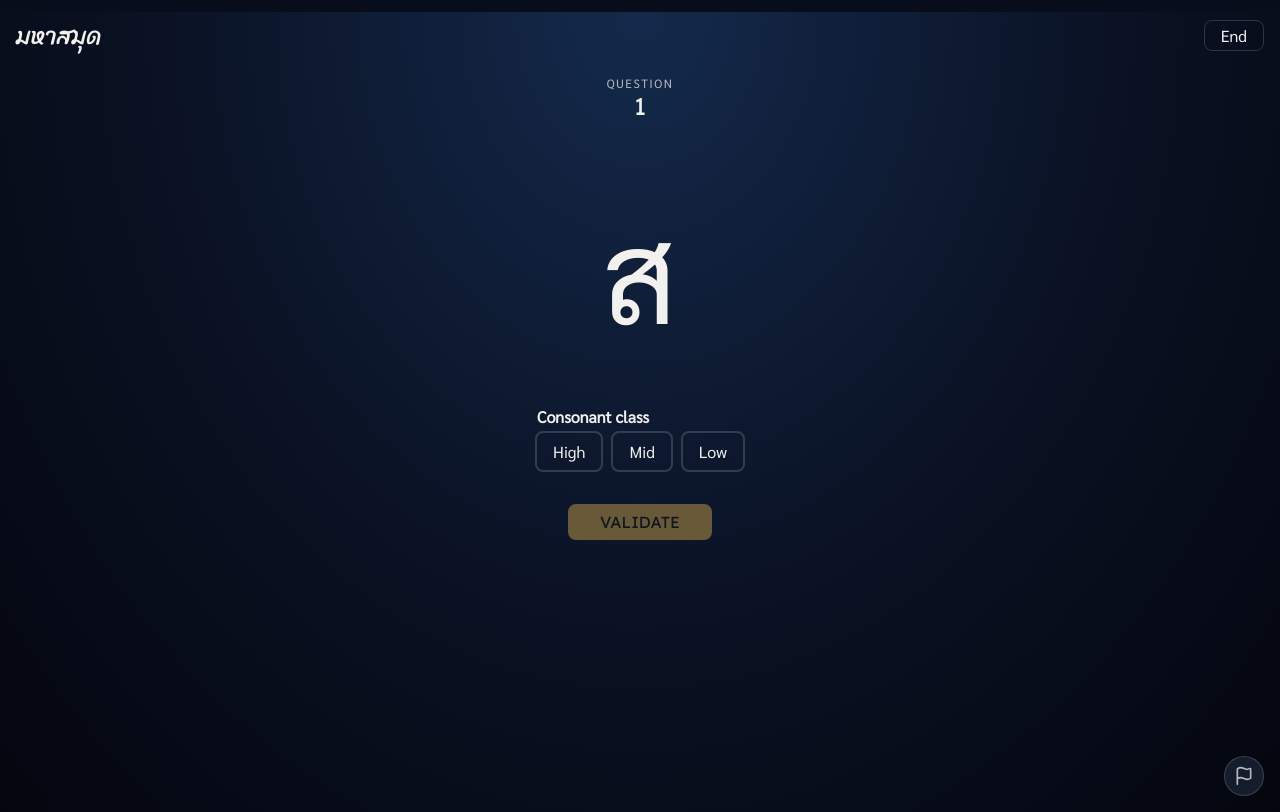
Scenario: ConsonantClassPage › turns Validate into Next for a wrong class, keeping the focus on it
Click the radio button labelled "Mid": (642, 451) [612,431,673,472]
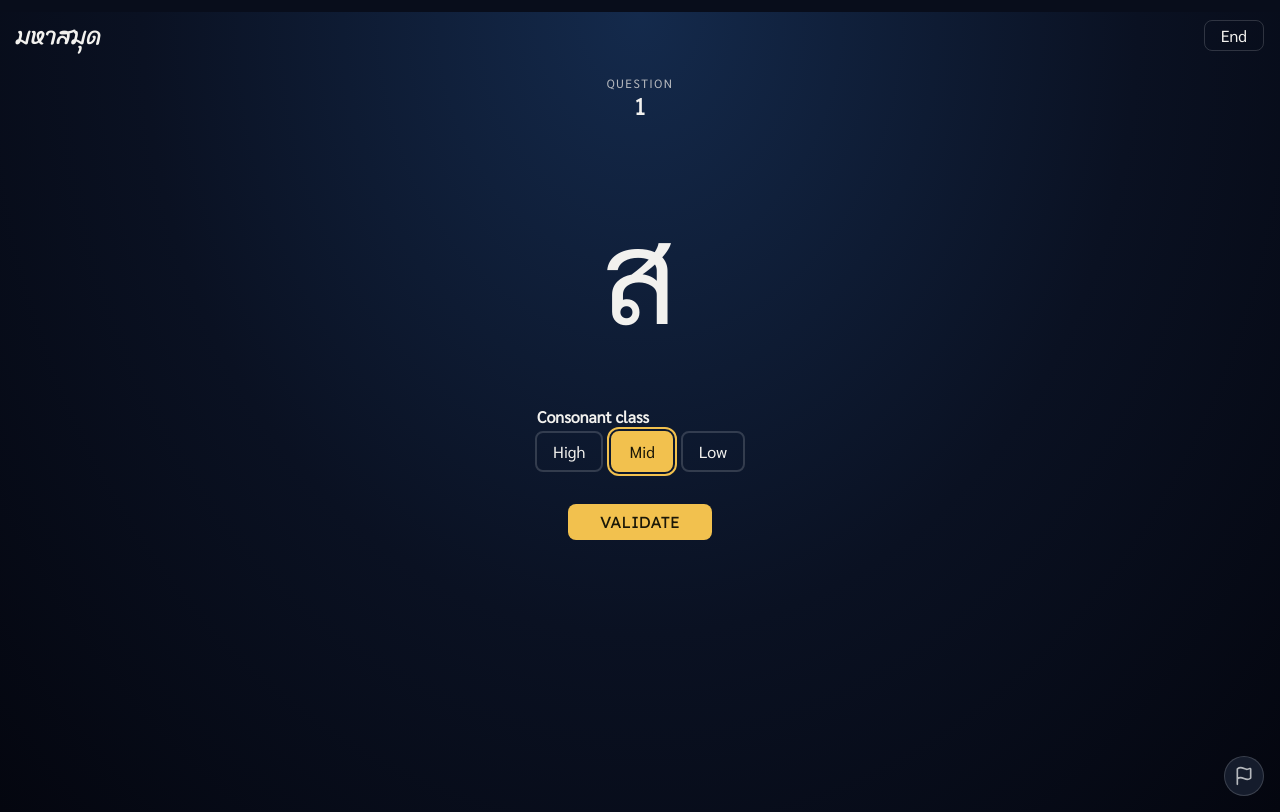
Click the button "Validate": (640, 522) [568,504,712,540]
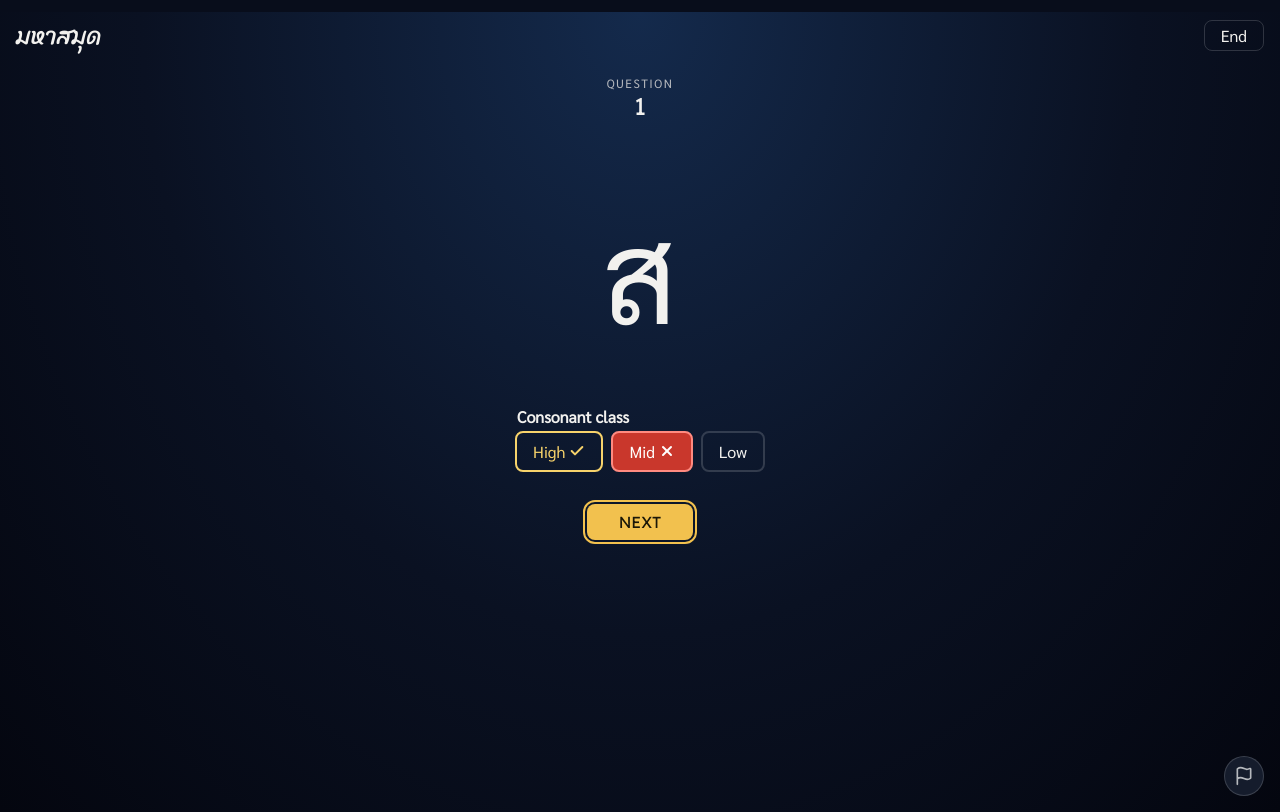
expect the button "Validate" is gone: met
